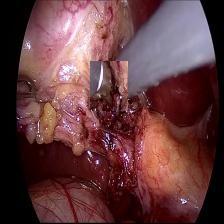Grasper: (14, 72, 38, 104)
Scissors: (90, 61, 128, 111)
